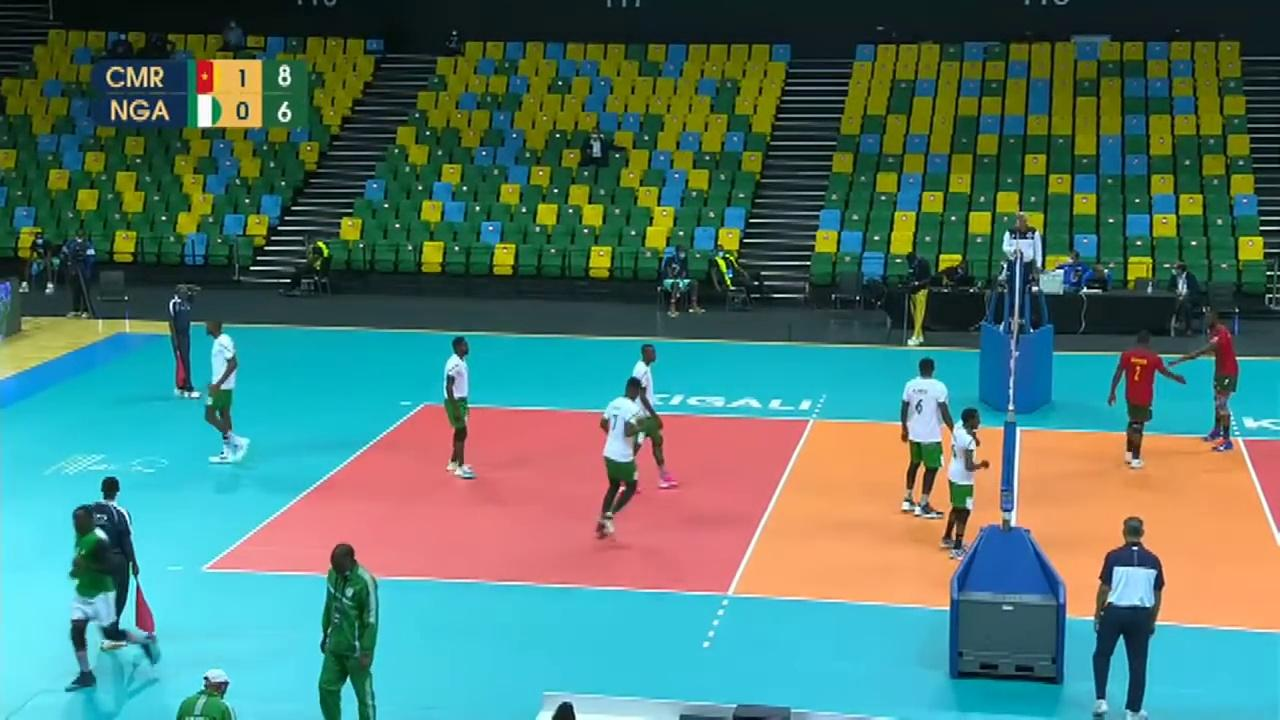player: (56, 506, 160, 691), (1110, 332, 1188, 468), (597, 372, 655, 537), (898, 364, 955, 514), (1181, 315, 1240, 453), (630, 339, 680, 489), (944, 404, 984, 563), (204, 320, 245, 461), (440, 335, 477, 475)
refree: (1093, 521, 1168, 714), (86, 472, 158, 634), (1003, 213, 1046, 323), (164, 284, 201, 395)
